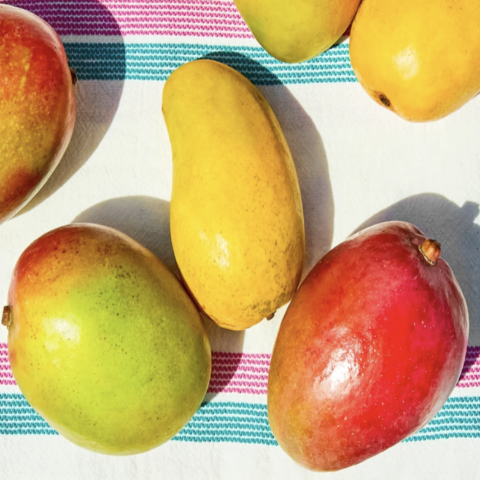mango: (251, 177, 480, 480), (0, 176, 221, 474), (151, 40, 319, 354)
